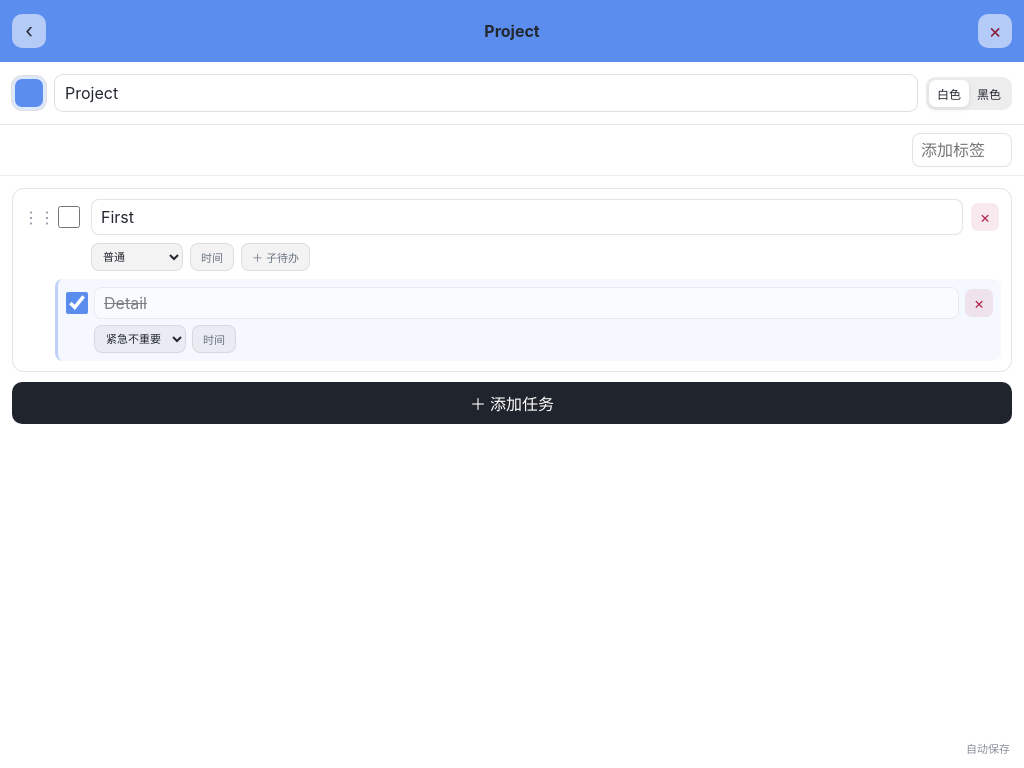
Test: TodoEditor › renders and focuses a new task before persistence resolves
Click the button "＋ 添加任务". click: coordinates (512, 403)
box: [12,382,1012,424]
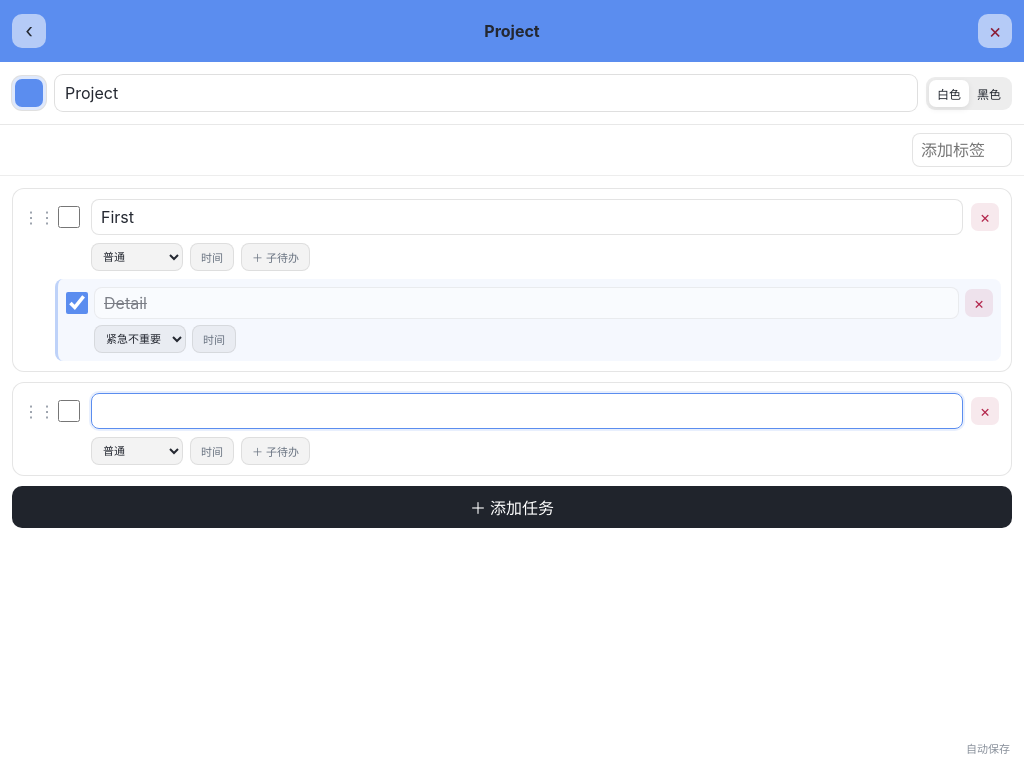
Check: the number of fields named "任务内容" is 2, box [91,199,963,235]; [91,393,963,429]
